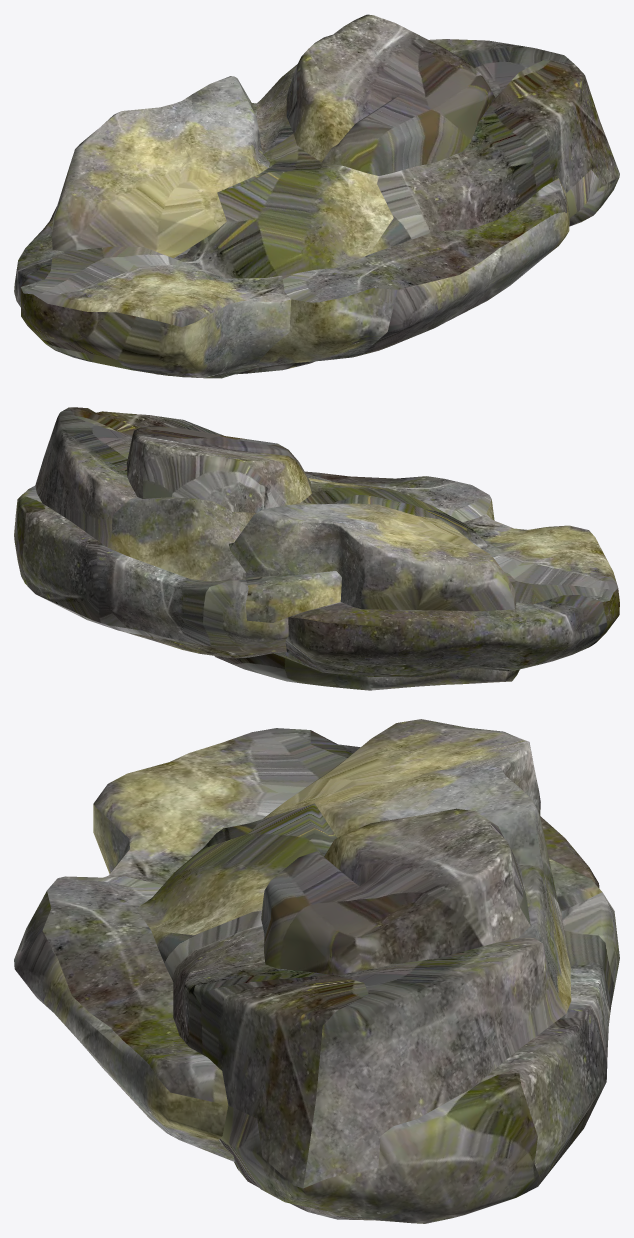
3 views of the same model, one above another, from view 1: azimuth 30°, elevation 25°; view 2: azimuth 150°, elevation 25°; view 3: azimuth 270°, elevation 25° (orthographic). The views are drawn at different scales.
Parts seen in each view (by area): view 1: SM_Mining_Node_Large_Tin_02_LOD0; view 2: SM_Mining_Node_Large_Tin_02_LOD0; view 3: SM_Mining_Node_Large_Tin_02_LOD0.
Part boxes in pixels (left/top/right/bottom): SM_Mining_Node_Large_Tin_02_LOD0: left=14, top=14, right=619, bottom=378; SM_Mining_Node_Large_Tin_02_LOD0: left=14, top=407, right=619, bottom=690; SM_Mining_Node_Large_Tin_02_LOD0: left=14, top=719, right=619, bottom=1223.
Bounding box in the file's own units: 5.52 × 2.18 × 3.38.
